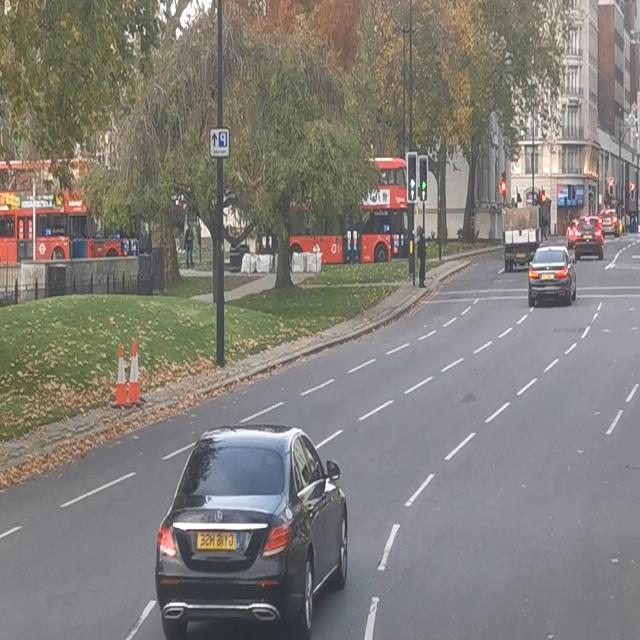Vehicle: (152, 424, 354, 639), (526, 247, 577, 311), (499, 198, 543, 270), (574, 215, 603, 264)
